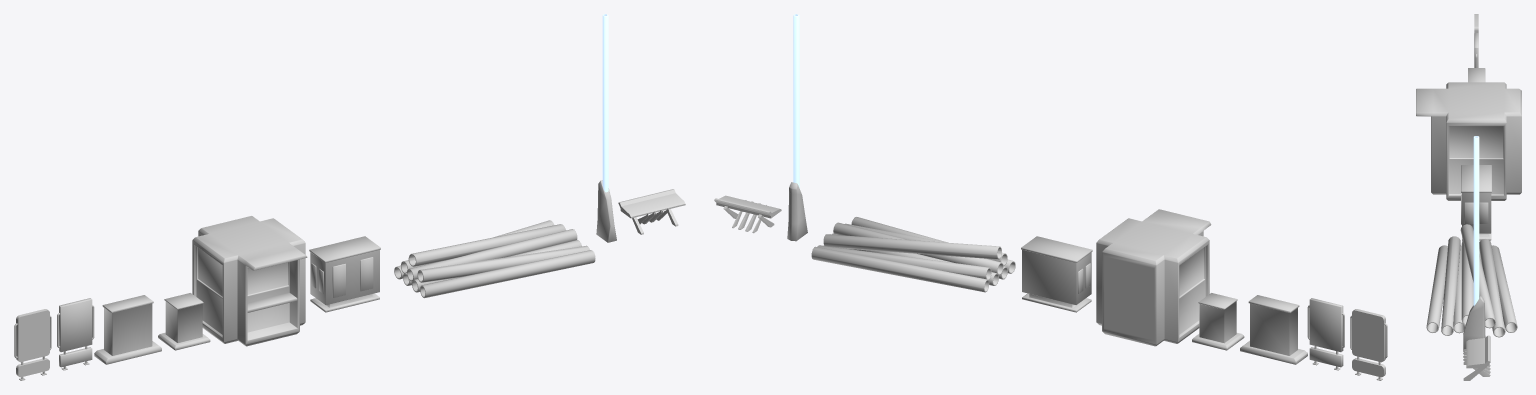
File: ModernoTreciDio.fbx
3 views of the same model, side by side, from view 1: azimuth 30°, elevation 25°; view 2: azimuth 150°, elevation 25°; view 3: azimuth 270°, elevation 25° (orthographic). The views are drawn at different scales.
Parts seen in each view (by area): view 1: Cube.004, Cube.003, Cube.164, Cylinder.003, Cube.010, Cube.008, Cylinder.004, Cylinder.007, Cylinder.005, Cube.165, Plane.012, Cube.009 (+2 smaller); view 2: Cube.004, Cube.003, Cube.164, Cylinder.002, Cylinder.007, Cube.010, Cube.008, Cube.165, Cylinder.006, Plane.012, Cylinder.005, Cube (+3 smaller); view 3: Cube.004, Cube.003, Cylinder.004, Plane.012, Cylinder.006, Cylinder.003, Cylinder.007, Cylinder.002, Cylinder.005, Cube, Cube.009, Cylinder.001 (+4 smaller).
Boxes of the visible parts, x1,y1,x2,y2 form: Cube.004: [192, 216, 307, 346]; Cube.003: [309, 236, 380, 312]; Cube.164: [102, 295, 153, 355]; Cylinder.003: [420, 250, 595, 298]; Cube.010: [59, 298, 92, 367]; Cube.008: [16, 309, 49, 377]; Cylinder.004: [417, 245, 589, 282]; Cylinder.007: [408, 224, 565, 266]; Cylinder.005: [407, 229, 577, 281]; Cube.165: [164, 293, 203, 342]; Plane.012: [602, 14, 608, 192]; Cube.009: [618, 189, 685, 218]; Cube.004: [1096, 209, 1211, 346]; Cube.003: [1021, 236, 1092, 312]; Cube.164: [1248, 295, 1299, 355]; Cylinder.002: [811, 246, 989, 292]; Cylinder.007: [823, 234, 1001, 259]; Cube.010: [1309, 298, 1343, 367]; Cube.008: [1352, 309, 1385, 377]; Cube.165: [1198, 293, 1237, 343]; Cylinder.006: [817, 245, 991, 280]; Plane.012: [793, 14, 799, 187]; Cylinder.005: [833, 222, 1003, 274]; Cube: [787, 182, 807, 241]; Cube.004: [1416, 82, 1521, 200]; Cube.003: [1461, 165, 1491, 240]; Cylinder.004: [1441, 236, 1460, 335]; Plane.012: [1473, 136, 1479, 305]; Cylinder.006: [1479, 239, 1505, 337]; Cylinder.003: [1426, 245, 1447, 332]; Cylinder.007: [1460, 224, 1495, 328]; Cylinder.002: [1491, 245, 1517, 332]; Cylinder.005: [1461, 240, 1473, 325]; Cube: [1463, 295, 1485, 351]; Cube.009: [1466, 335, 1490, 368]; Cylinder.001: [1453, 245, 1465, 333].
Size of the model in its own units: 2436 by 789 by 350.
